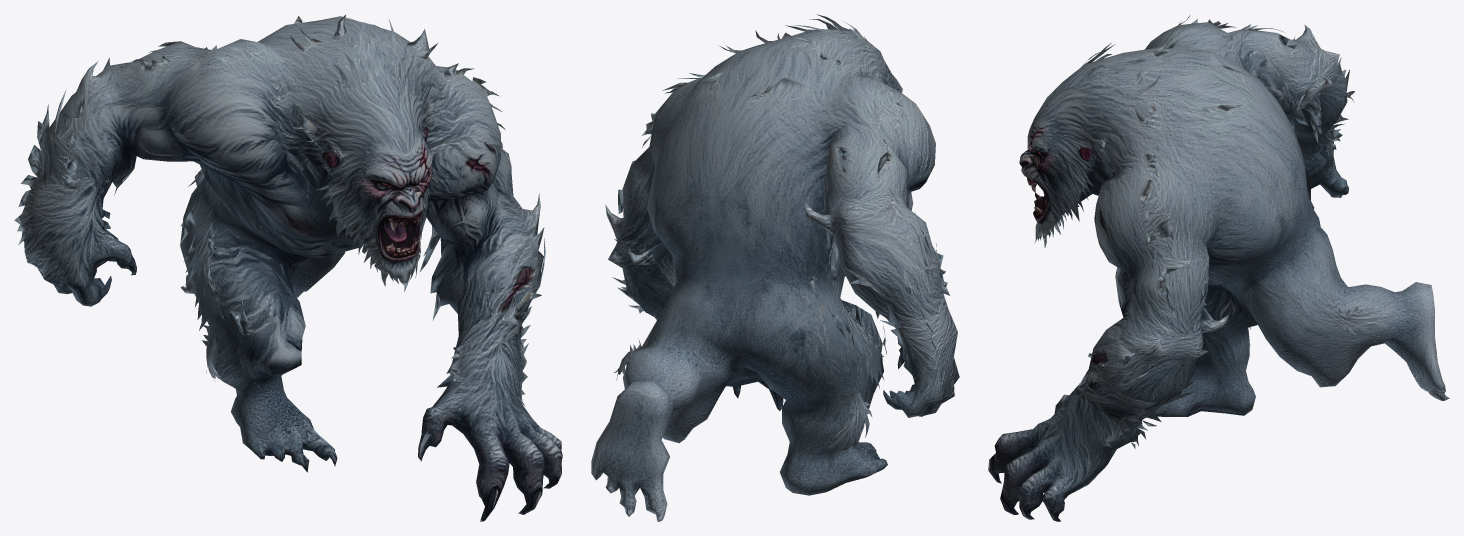
The model's file is selected.glb.
3 views of the same model, side by side, from view 1: azimuth 30°, elevation 25°; view 2: azimuth 150°, elevation 25°; view 3: azimuth 270°, elevation 25° (orthographic). The views are drawn at different scales.
Visible parts, largest first — view 1: tripo_node_ded7383a-4efd-472c-a377-f03ed8c91c82; view 2: tripo_node_ded7383a-4efd-472c-a377-f03ed8c91c82; view 3: tripo_node_ded7383a-4efd-472c-a377-f03ed8c91c82.
Boxes of the visible parts, left/top/right/bottom form: tripo_node_ded7383a-4efd-472c-a377-f03ed8c91c82: left=14, top=14, right=562, bottom=521; tripo_node_ded7383a-4efd-472c-a377-f03ed8c91c82: left=591, top=14, right=959, bottom=521; tripo_node_ded7383a-4efd-472c-a377-f03ed8c91c82: left=988, top=15, right=1449, bottom=521.
Size of the model in its own units: 0.9746 by 0.998 by 0.9863.
Materials: 1 (1 with a texture image).
